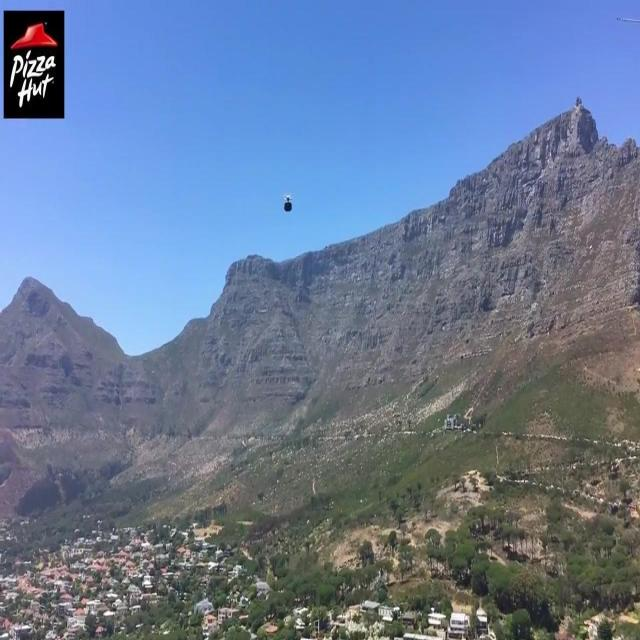UAV: (284, 193, 293, 203)
